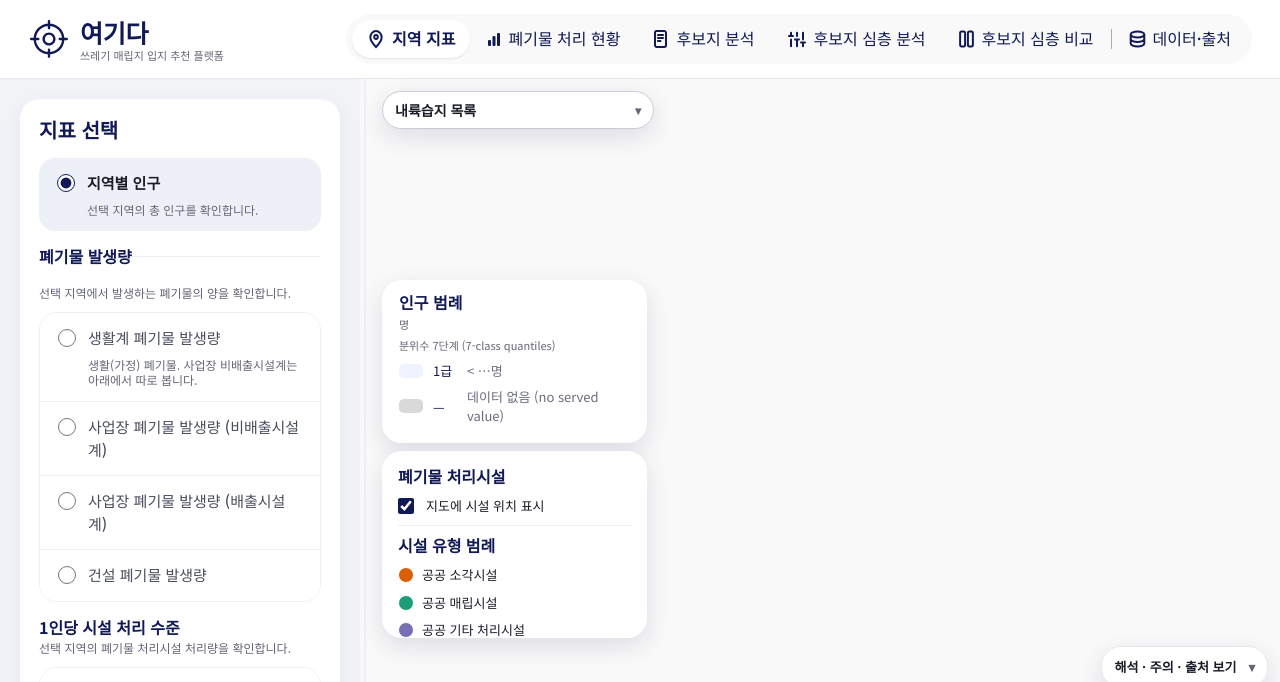
Test: 데이터와 출처 keeps its primary surface in plain Korean › carries no forbidden technical token once the detail layers are stripped
The image size is (1280, 682).
What coordinates should you click on to do the following:
click the button with test id "mode-transparency"
I would click on:
 (1180, 39)
Its box is [1114,20,1246,58].
(page scrolled)
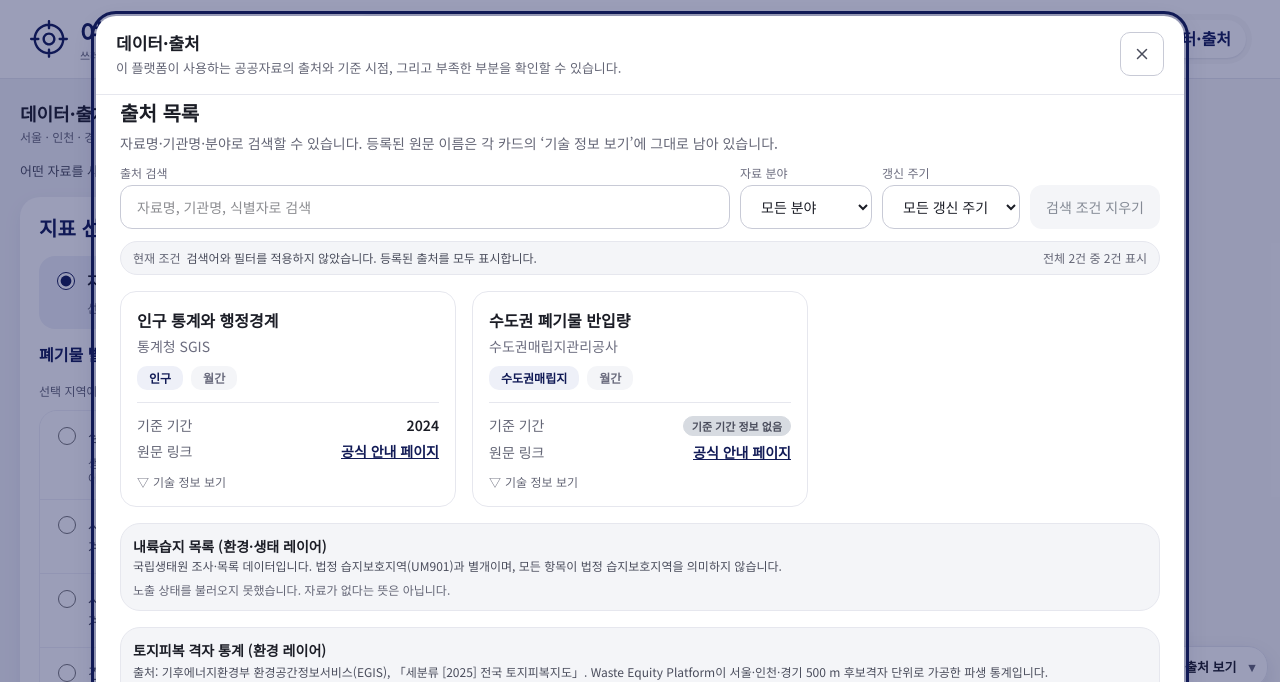
Now the list with test id "transparency-source-list" is shown, box [120,291,808,507]
